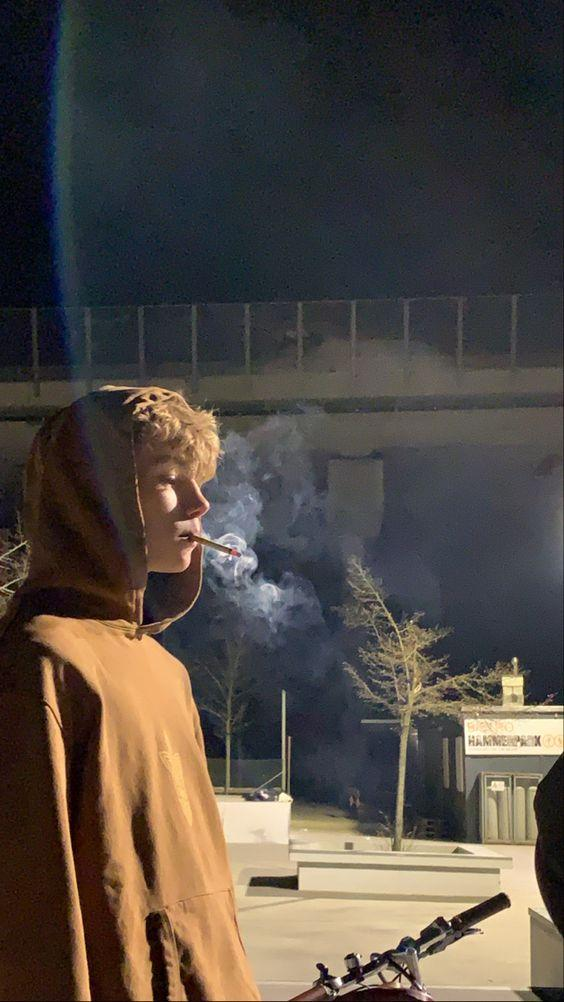cigarette: (188, 534, 242, 557)
